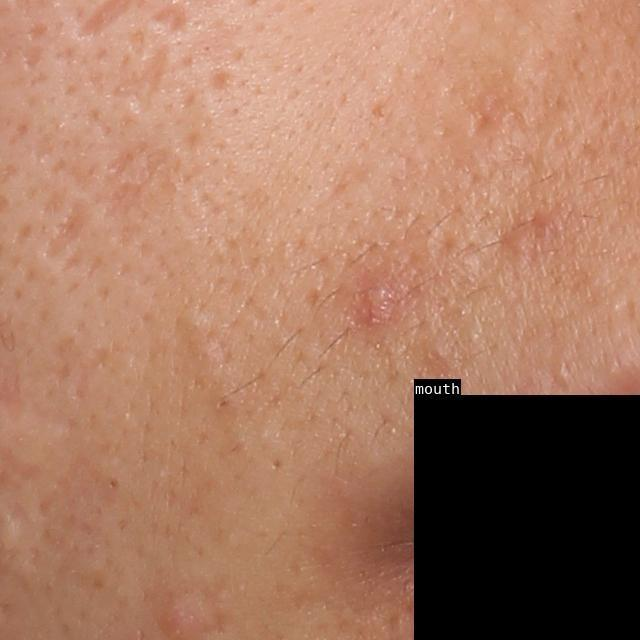atrophic_scar: (120, 45, 171, 110), (40, 201, 85, 264), (149, 1, 198, 43)
papule: (361, 277, 394, 322), (502, 225, 538, 256)
